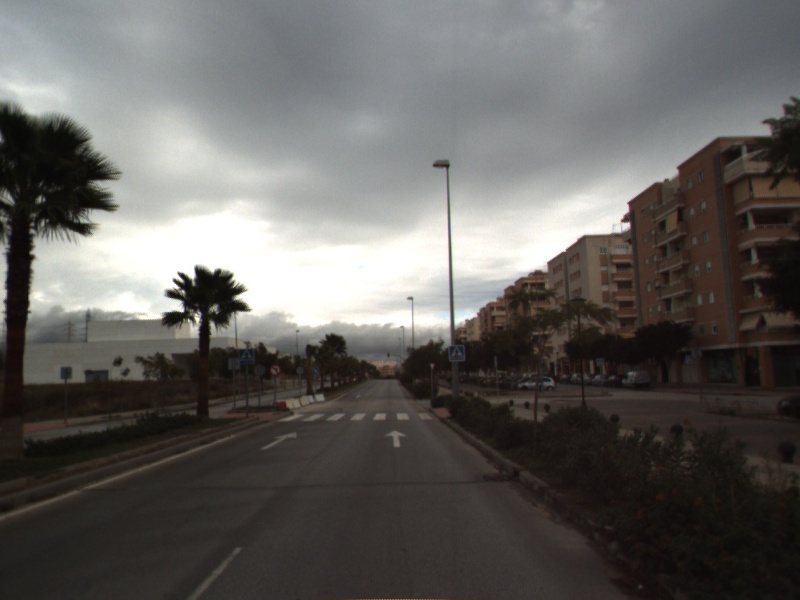STRAIGHT: (259, 430, 299, 451), (383, 428, 409, 449)
